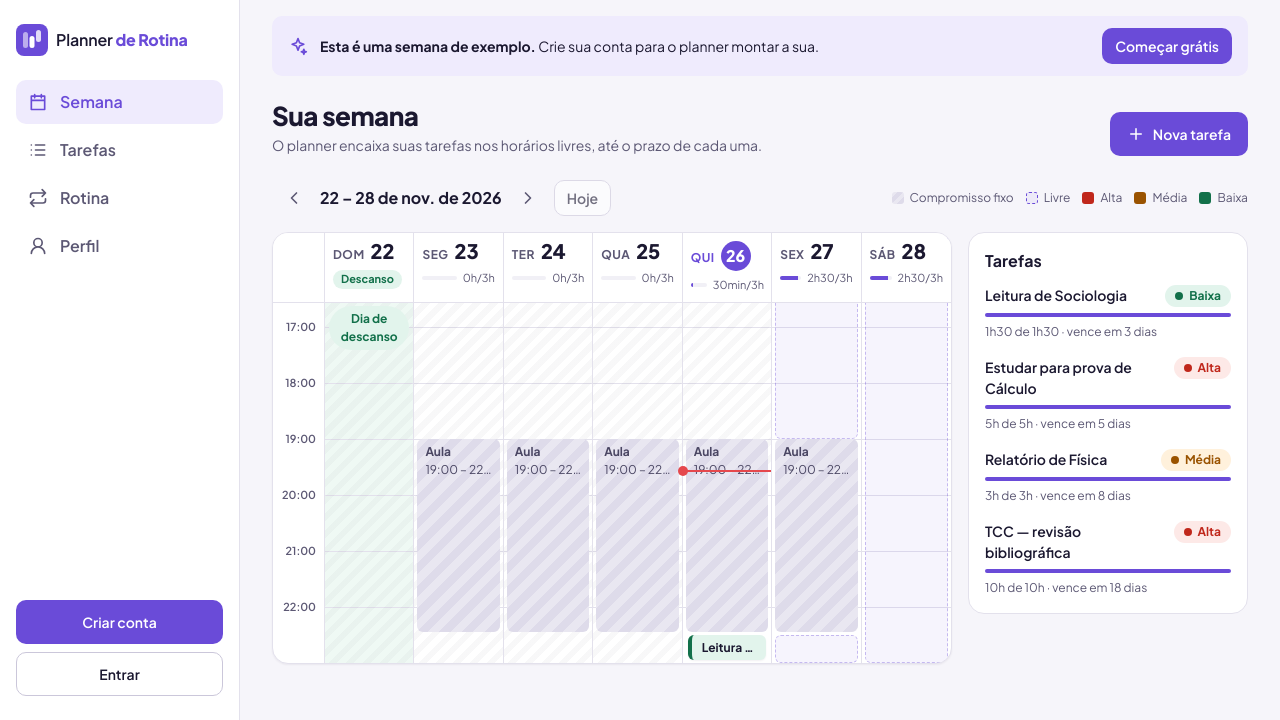
Test: modo demonstração (RF14) › criar tarefa na semana pede para criar conta
(page scrolled)
Click the button "Nova tarefa": (1179, 134) [1110,112,1248,156]
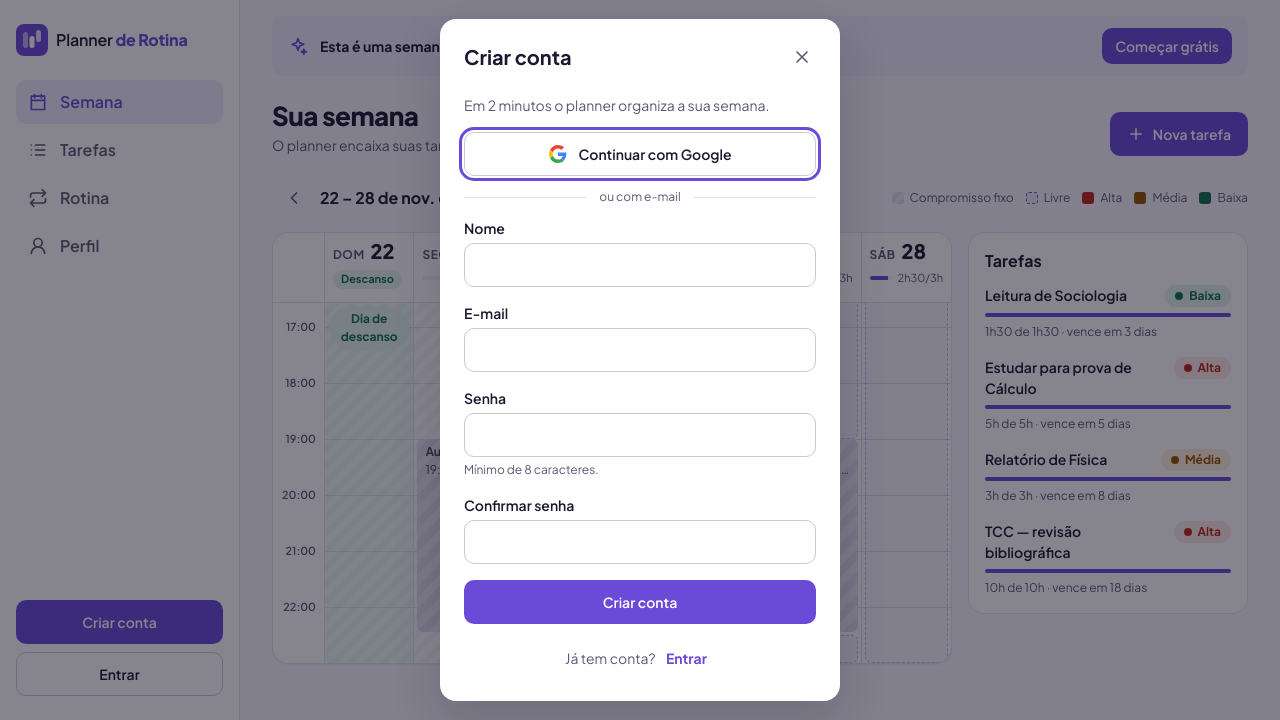
Result: the dialog "Criar conta" is shown at [440,19,840,701]
